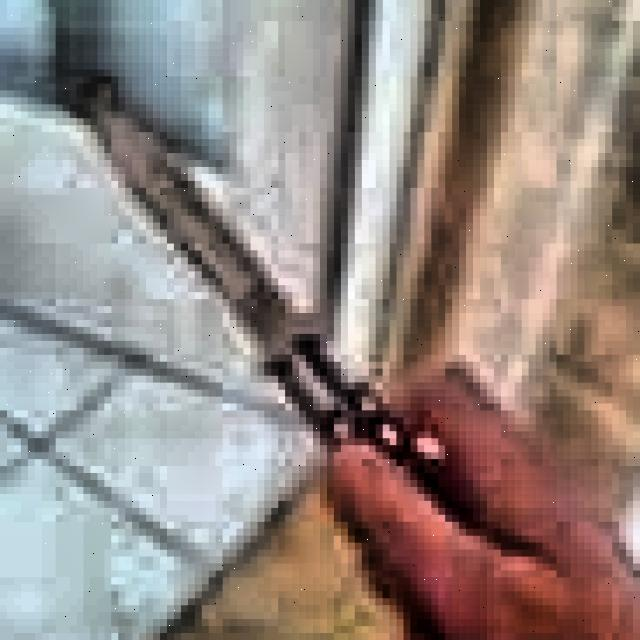knife: (74, 82, 480, 534)
